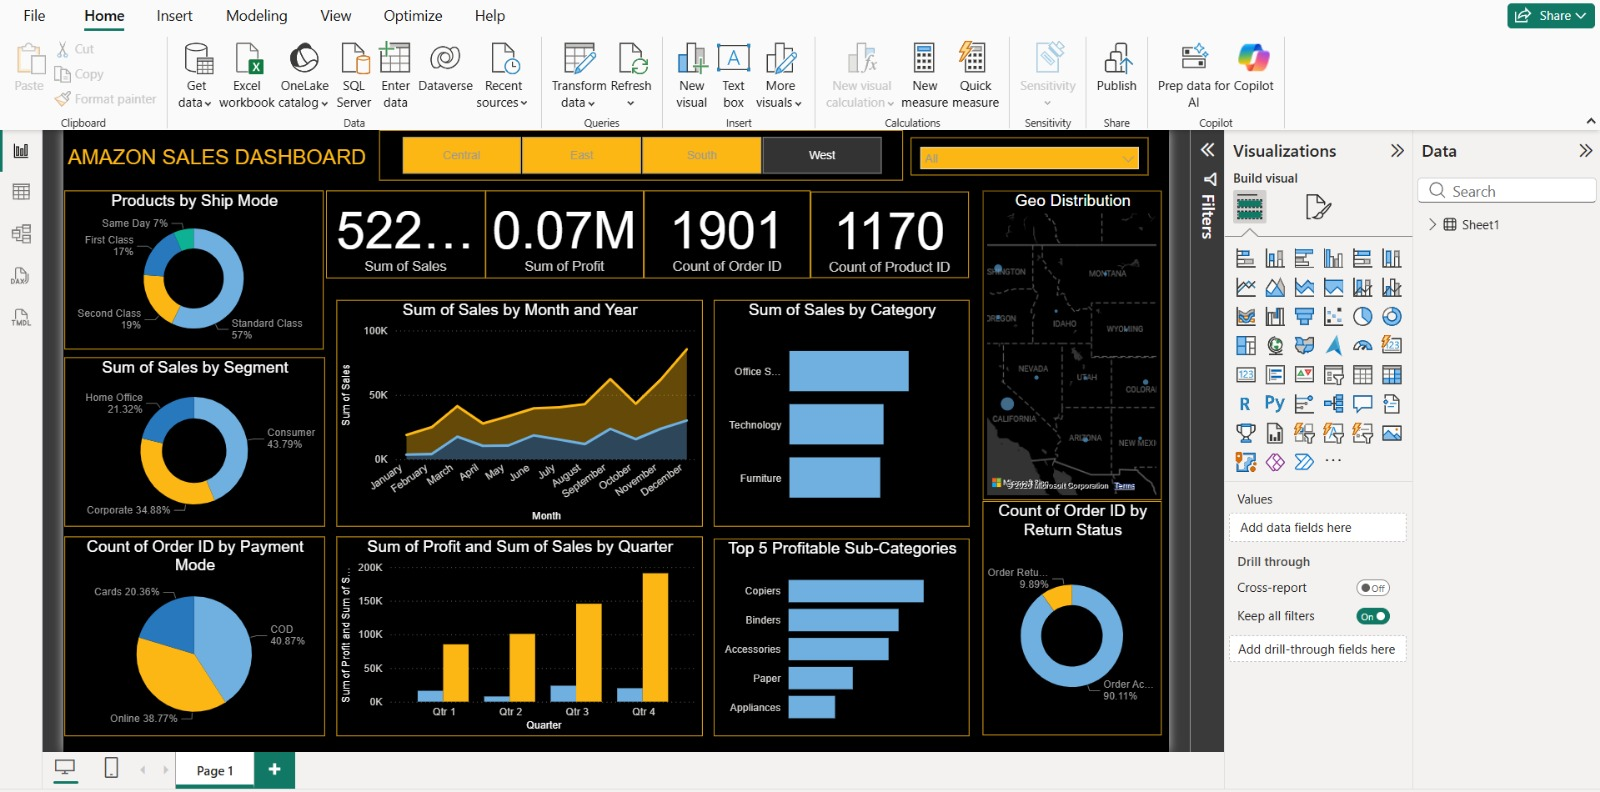

This screenshot's page, from the dashboard's own definition file:
{"tool":"powerbi","page":{"name":"Page 1","canvas":[1280,720],"ordinal":0},"visuals":[{"type":"clusteredBarChart","fields":{"Category":["Sheet1.Category"],"Y":["Sum(Sheet1.Sales)"]},"box":[752.5,196.2,296.2,262.5],"z":0},{"type":"clusteredBarChart","title":"Top 5 Profitable Sub-Categories","fields":{"Y":["Sum(Sheet1.Profit)"],"Category":["Sheet1.Sub-Category"]},"box":[752.5,472.5,296.2,228.8],"z":1000},{"type":"donutChart","fields":{"Category":["Sheet1.Segment"],"Y":["Sum(Sheet1.Sales)"]},"box":[1.2,262.5,301.2,196.2],"z":2000},{"type":"donutChart","title":"Products by Ship Mode","fields":{"Category":["Sheet1.Ship Mode"],"Y":["CountNonNull(Sheet1.Product ID)"]},"box":[1.2,70,300,183.8],"z":3000},{"type":"donutChart","fields":{"Y":["CountNonNull(Sheet1.Order ID)"],"Category":["Sheet1.Return Status"]},"box":[1063.8,430,207.5,271.2],"z":4000},{"type":"pieChart","fields":{"Category":["Sheet1.Payment Mode"],"Y":["CountNonNull(Sheet1.Order ID)"]},"box":[1.2,470,301.2,231.2],"z":5000},{"type":"stackedAreaChart","fields":{"Category":["Sheet1.Order Date.Variation.Date Hierarchy.Month"],"Y":["Sum(Sheet1.Sales)"],"Series":["Sheet1.Order Date.Variation.Date Hierarchy.Year"]},"box":[316.2,196.2,423.8,262.5],"z":6000},{"type":"clusteredColumnChart","fields":{"Y":["Sum(Sheet1.Profit)","Sum(Sheet1.Sales)"],"Category":["Sheet1.Order Date.Variation.Date Hierarchy.Quarter"]},"box":[316.2,470,423.8,231.2],"z":7000},{"type":"slicer","fields":{"Values":["Sheet1.Region"]},"box":[365,0,606.2,58.8],"z":8000},{"type":"map","title":"Geo Distribution","fields":{"Category":["Sheet1.State"],"Size":["Sum(Sheet1.Sales)"]},"box":[1063.8,70,207.5,358.8],"z":9000},{"type":"slicer","fields":{"Values":["Sheet1.State"]},"box":[981.2,8.8,275,43.8],"z":10000},{"type":"textbox","box":[0,13.8,365,50],"z":11000},{"type":"card","fields":{"Values":["Sum(Sheet1.Sales)"]},"box":[304,70,184.6,101.3],"z":12000},{"type":"card","fields":{"Values":["Sum(Sheet1.Profit)"]},"box":[488.6,70,183.4,101.3],"z":13000},{"type":"card","fields":{"Values":["CountNonNull(Sheet1.Order ID)"]},"box":[672,70,193,101.3],"z":14000},{"type":"card","fields":{"Values":["Count(Sheet1.Product ID)"]},"box":[865,71.2,183.4,100.1],"z":15000}]}

Visuals, with their boxes on the page's 1280x720 design canvas (x1, y1, x2, y2). These are canvas units, not pixel positions in the 1600x792 screenshot, which may show the page scaled, cropped or inside an application window:
clusteredBarChart - Sheet1.Category x Sum(Sheet1.Sales): box=[752, 196, 1049, 459]
"Top 5 Profitable Sub-Categories" clusteredBarChart: box=[752, 472, 1049, 701]
donutChart - Sheet1.Segment x Sum(Sheet1.Sales): box=[1, 262, 302, 459]
"Products by Ship Mode" donutChart: box=[1, 70, 301, 254]
donutChart - CountNonNull(Sheet1.Order ID) x Sheet1.Return Status: box=[1064, 430, 1271, 701]
pieChart - Sheet1.Payment Mode x CountNonNull(Sheet1.Order ID): box=[1, 470, 302, 701]
stackedAreaChart - Sheet1.Order Date.Variation.Date Hierarchy.Month x Sum(Sheet1.Sales): box=[316, 196, 740, 459]
clusteredColumnChart - Sum(Sheet1.Profit) x Sum(Sheet1.Sales): box=[316, 470, 740, 701]
slicer - Sheet1.Region: box=[365, 0, 971, 59]
"Geo Distribution" map: box=[1064, 70, 1271, 429]
slicer - Sheet1.State: box=[981, 9, 1256, 53]
textbox: box=[0, 14, 365, 64]
card - Sum(Sheet1.Sales): box=[304, 70, 489, 171]
card - Sum(Sheet1.Profit): box=[489, 70, 672, 171]
card - CountNonNull(Sheet1.Order ID): box=[672, 70, 865, 171]
card - Count(Sheet1.Product ID): box=[865, 71, 1048, 171]
